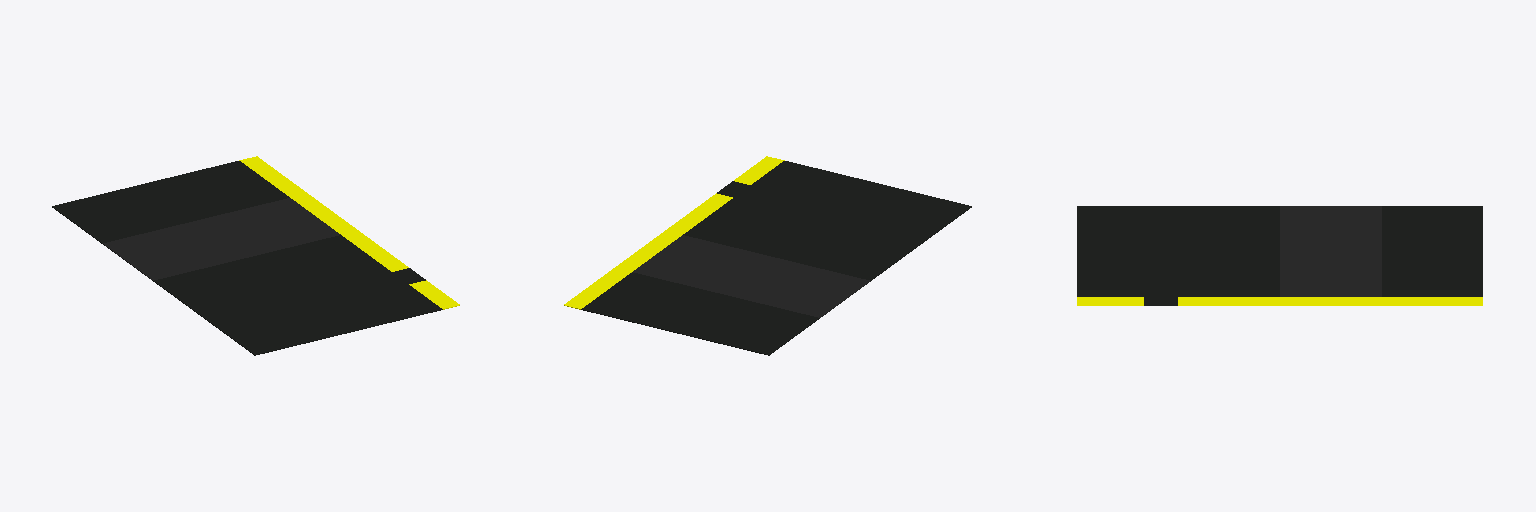
Rendered from carpet_2.obj.
3 views of the same model, side by side, from view 1: azimuth 30°, elevation 25°; view 2: azimuth 150°, elevation 25°; view 3: azimuth 270°, elevation 25° (orthographic).
Visible parts, largest first — view 1: Cube.004; view 2: Cube.004; view 3: Cube.004.
Boxes of the visible parts, box(x1,y1,x2,y2) form: Cube.004: box(52, 156, 459, 355); Cube.004: box(564, 156, 971, 355); Cube.004: box(1077, 206, 1482, 305).
Size of the model in its own units: 14 by 0.04 by 24.